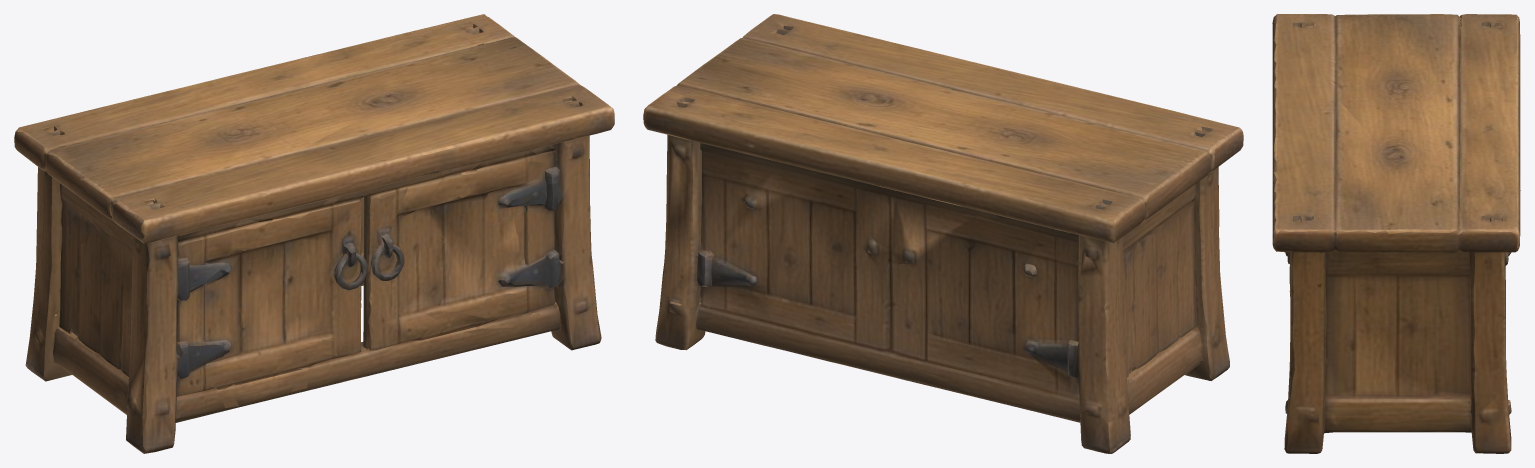
3 views of the same model, side by side, from view 1: azimuth 30°, elevation 25°; view 2: azimuth 150°, elevation 25°; view 3: azimuth 270°, elevation 25° (orthographic). The views are drawn at different scales.
Visible parts, largest first — view 1: geometry_0; view 2: geometry_0; view 3: geometry_0.
Part boxes in pixels (bbox=[...]): geometry_0: bbox=[14, 14, 614, 453]; geometry_0: bbox=[643, 14, 1243, 453]; geometry_0: bbox=[1272, 14, 1520, 453].
Size of the model in its own units: 1.2 by 0.5812 by 0.5737.
1 material, 1 textured.
